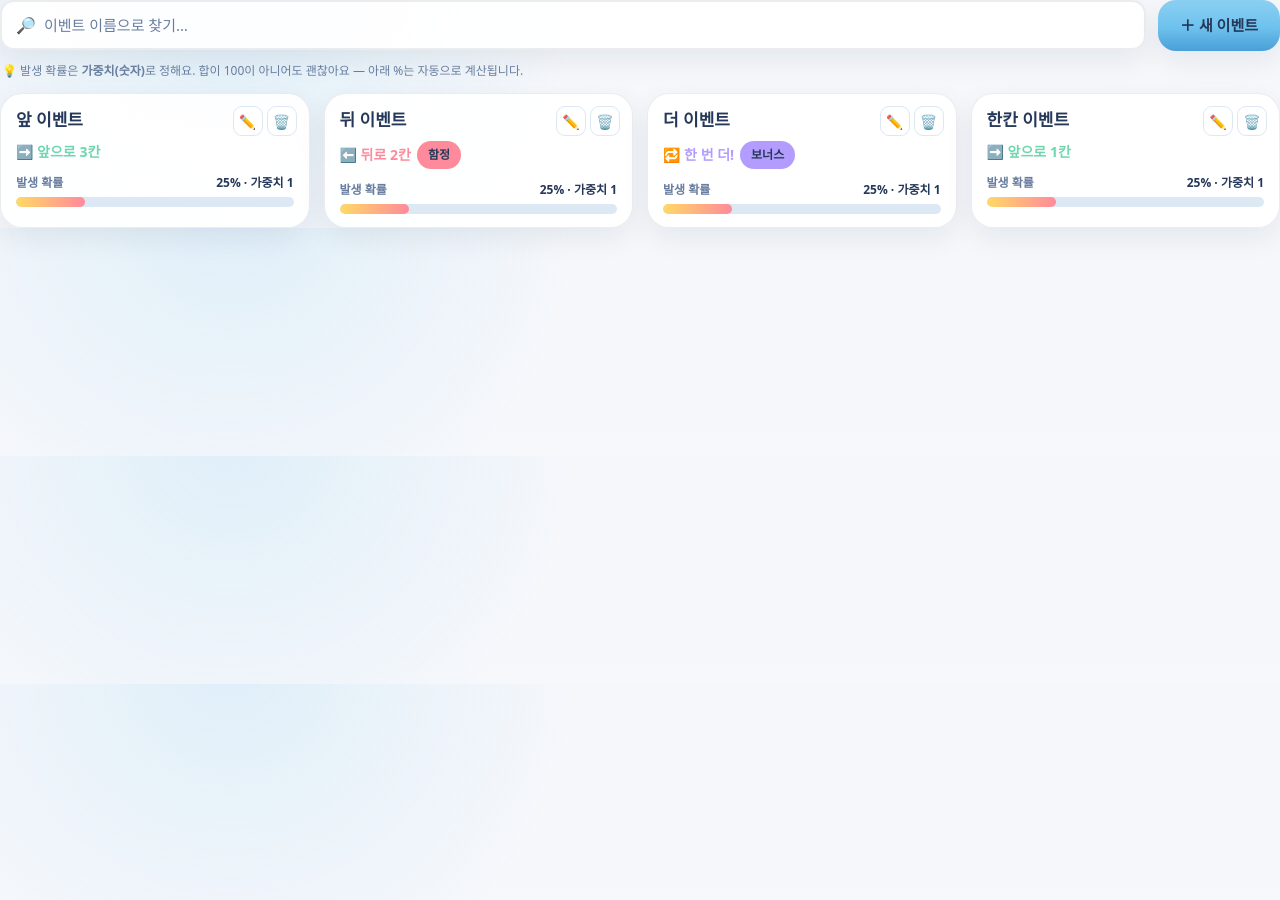
EventTab (search + live probability + edit/delete) › narrows the cards to matching names as you type in search
In the field labelled "이벤트 이름으로 찾기": (587, 25) [44,14,1130,36], type "앞"
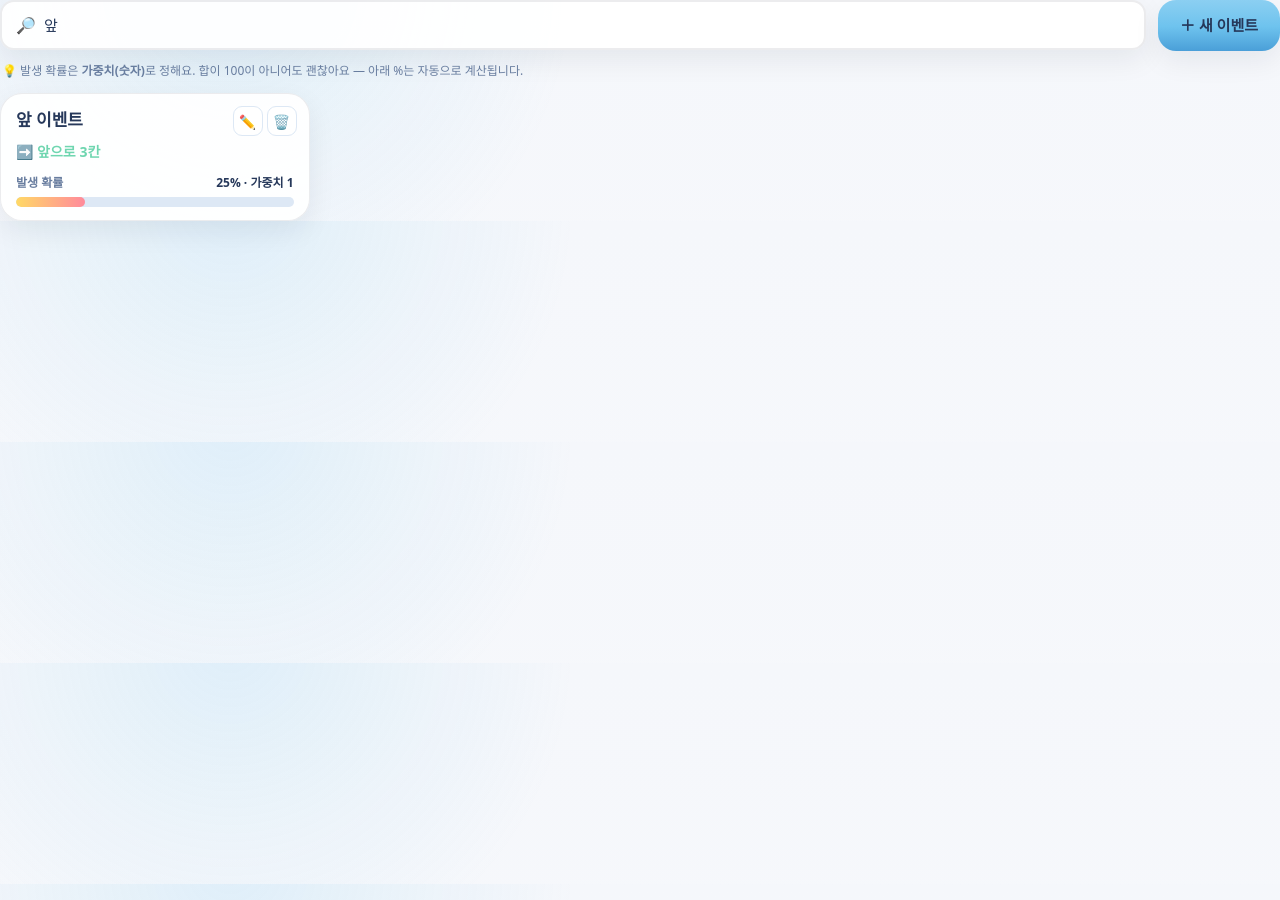
Check: the text "앞 이벤트" is shown, box [16,108,83,131]
Check: the text "뒤 이벤트" is gone
Check: the text "더 이벤트" is gone
